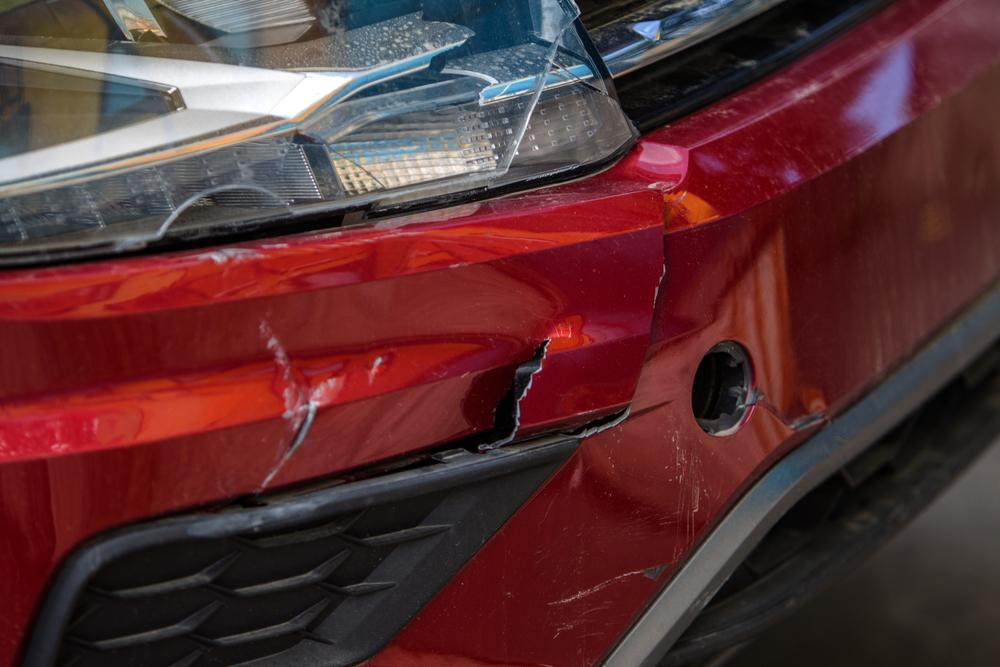crack: (568, 188, 669, 438), (260, 379, 327, 489), (489, 338, 552, 446), (738, 401, 828, 432)
lamp broken: (0, 0, 642, 274)
